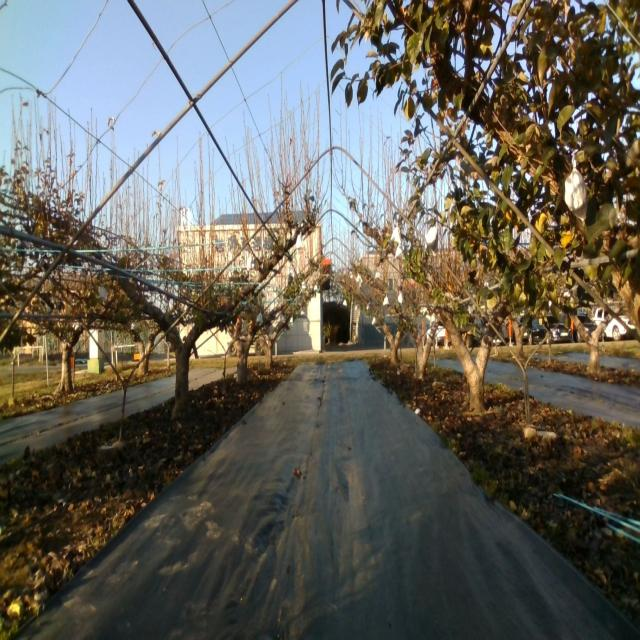pearbags: (562, 167, 590, 224), (425, 226, 438, 247)
